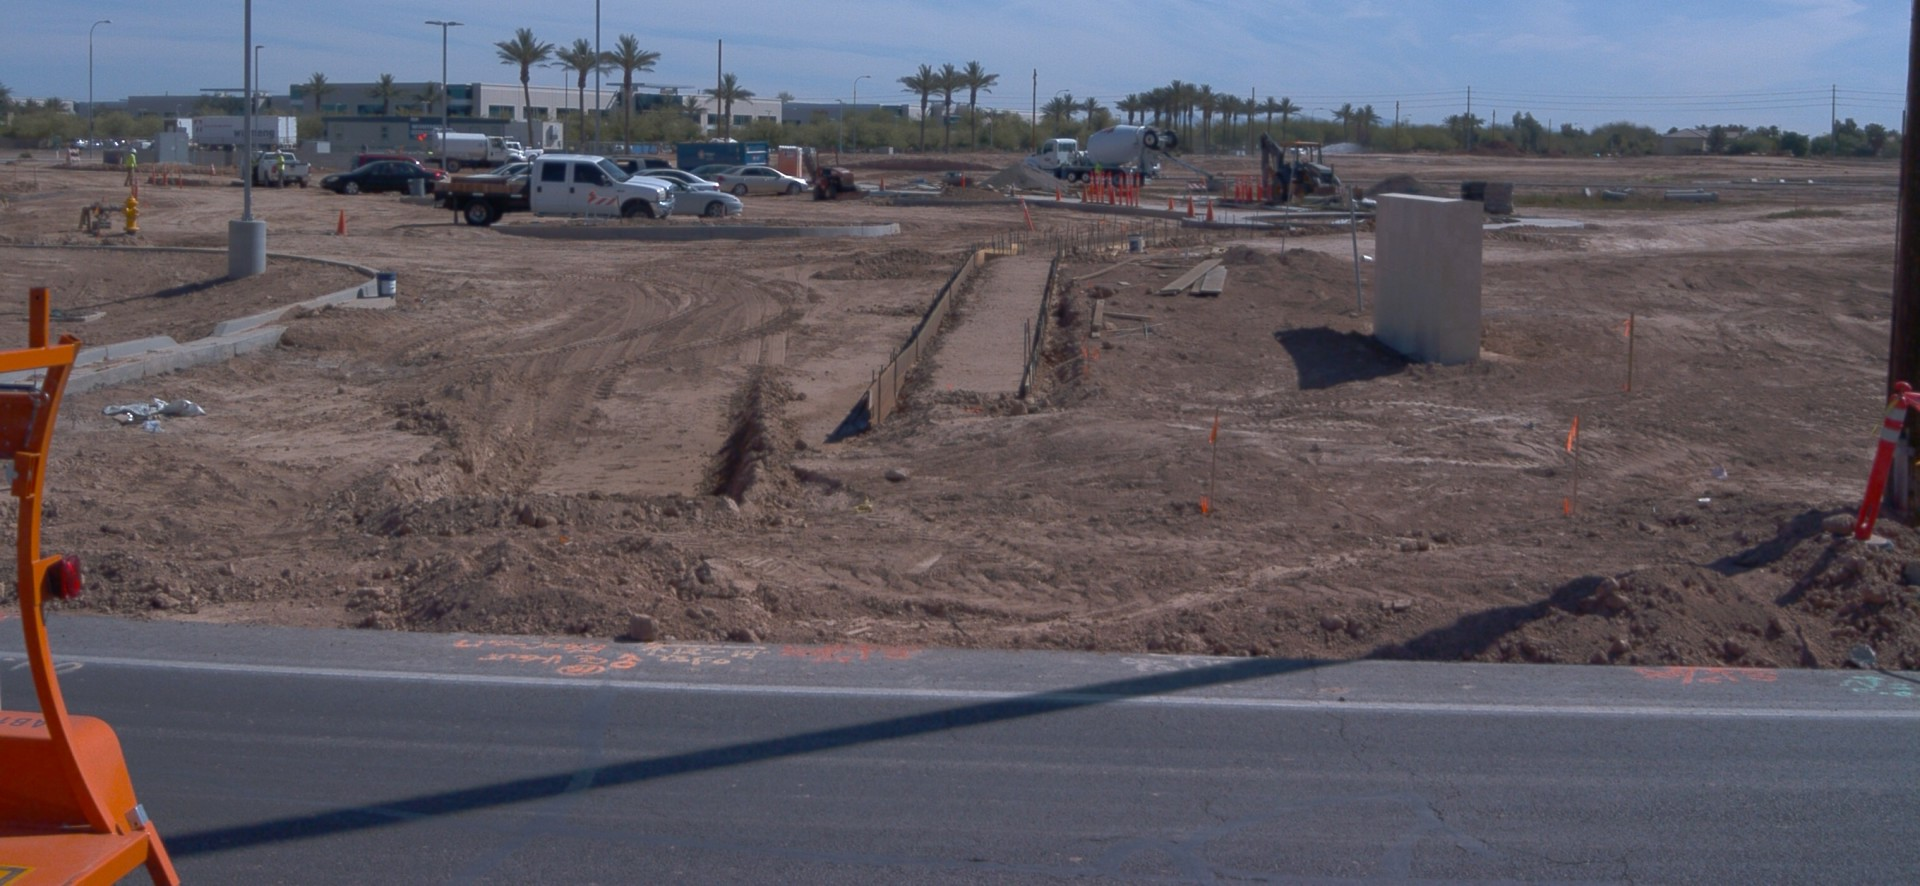TYPE_PEDESTRIAN: (122, 147, 141, 188), (274, 147, 289, 187), (1092, 158, 1105, 183)
TYPE_VEHICLE: (0, 279, 177, 885), (434, 154, 678, 227), (1024, 119, 1217, 185), (1257, 133, 1360, 208), (191, 108, 299, 161), (427, 124, 526, 175), (73, 115, 187, 154), (319, 161, 445, 195), (648, 175, 744, 219), (708, 164, 812, 197), (237, 149, 313, 192), (804, 146, 857, 203), (347, 153, 450, 178), (632, 170, 722, 191), (605, 161, 672, 180), (504, 140, 546, 162), (684, 164, 723, 184), (494, 164, 533, 177), (1289, 143, 1309, 156)
